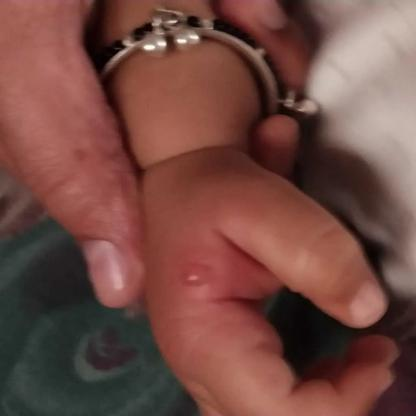Fire ant: (175, 255, 222, 292)
